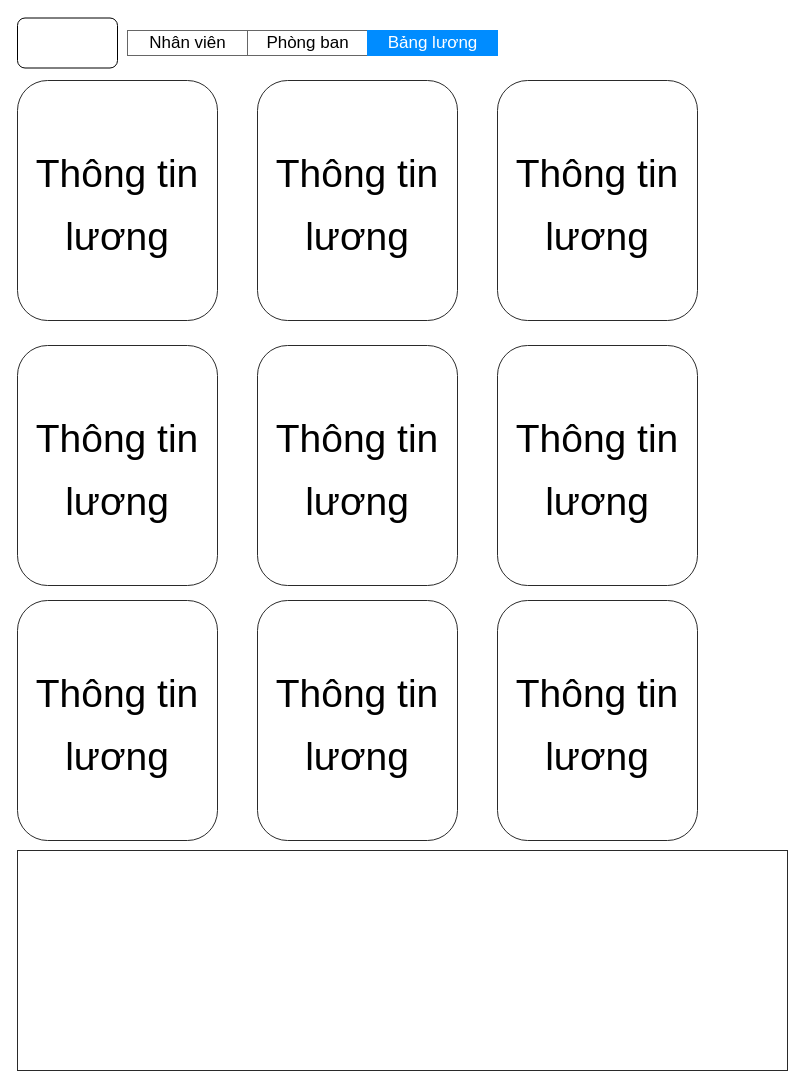
Image size: 805x1088. Some labels were removed from this diagram. Each missing label, with the centre of its shape:
"Logo" goes at point 67,42.
"Thông tin liên lạc" goes at point 402,960.
